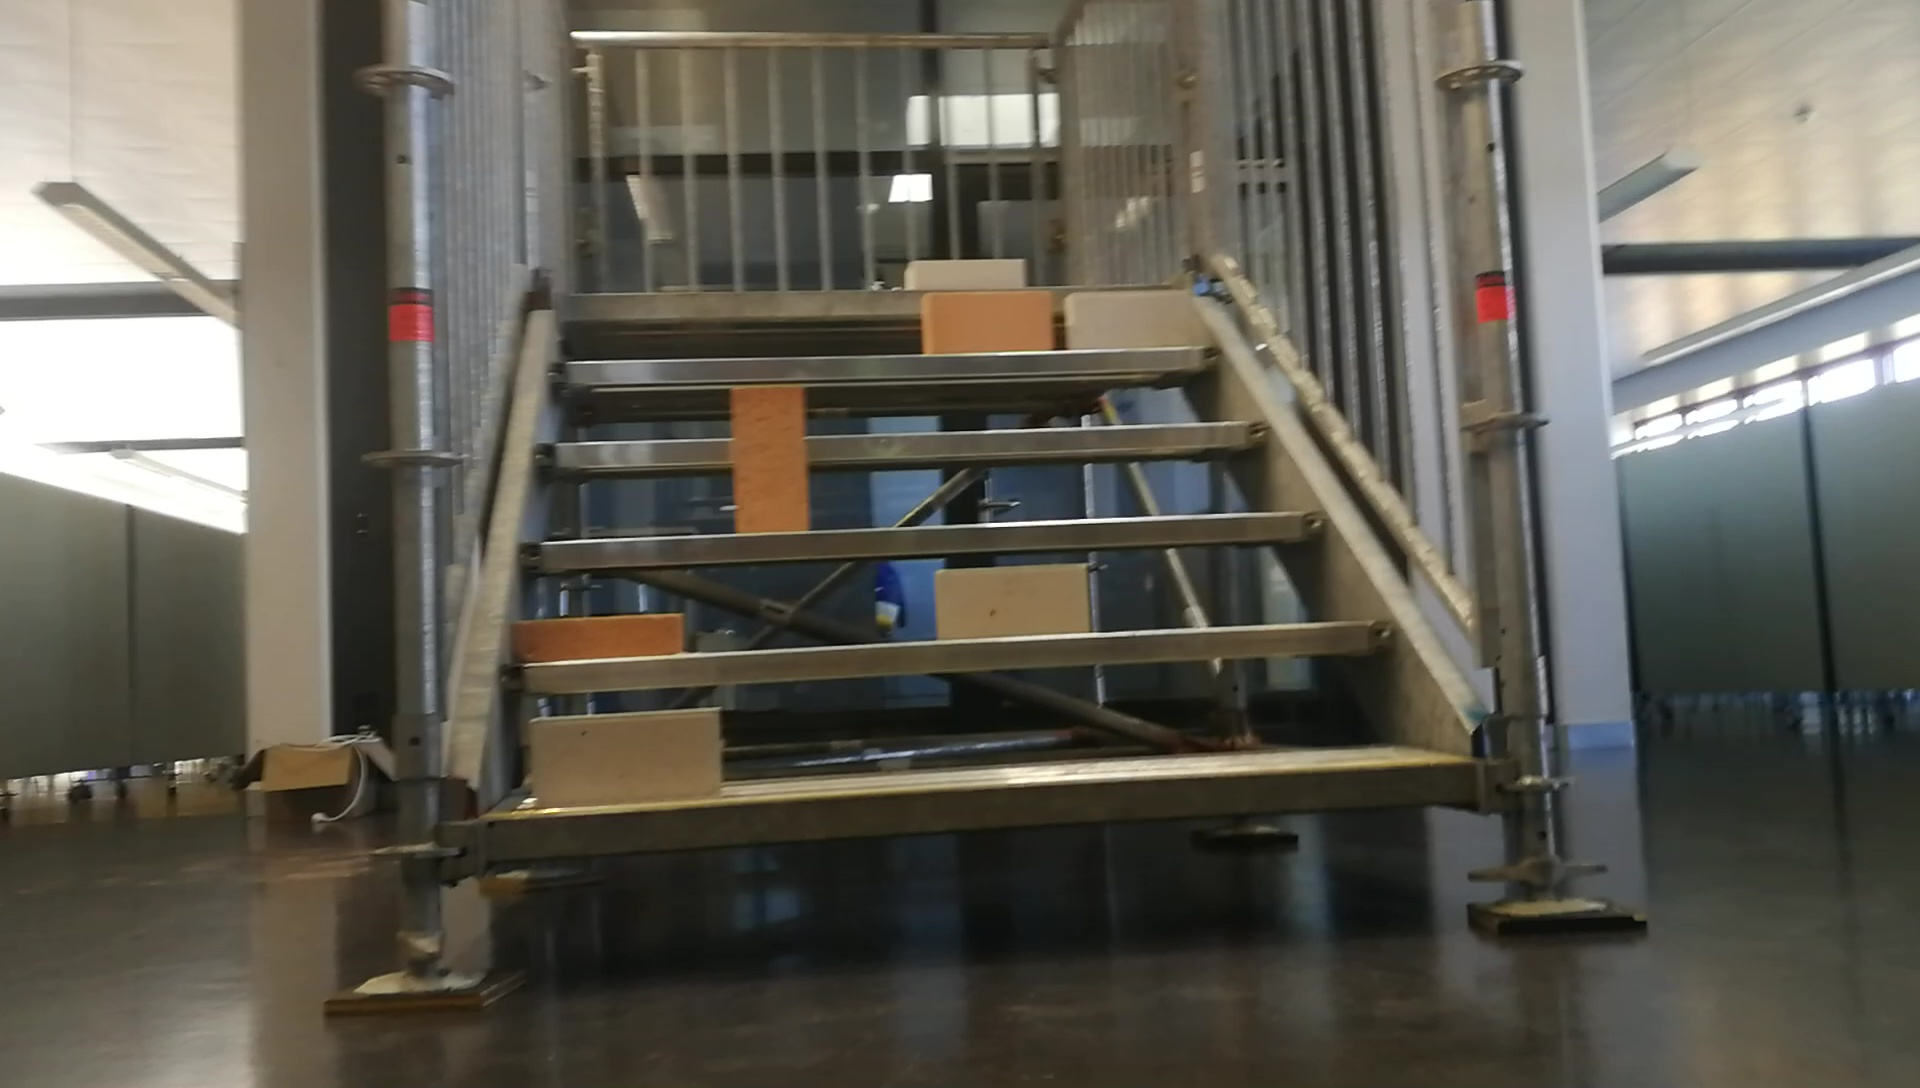brick: (530, 710, 720, 803), (938, 564, 1088, 638), (731, 385, 804, 535), (923, 290, 1047, 353), (516, 611, 679, 658), (1068, 290, 1185, 349), (905, 257, 1025, 287)
edge: (492, 761, 1466, 859), (498, 619, 1396, 694), (521, 510, 1328, 567), (531, 419, 1279, 468), (549, 340, 1228, 382)
stairs: (323, 0, 1647, 1008)
steps: (468, 245, 1485, 885)
